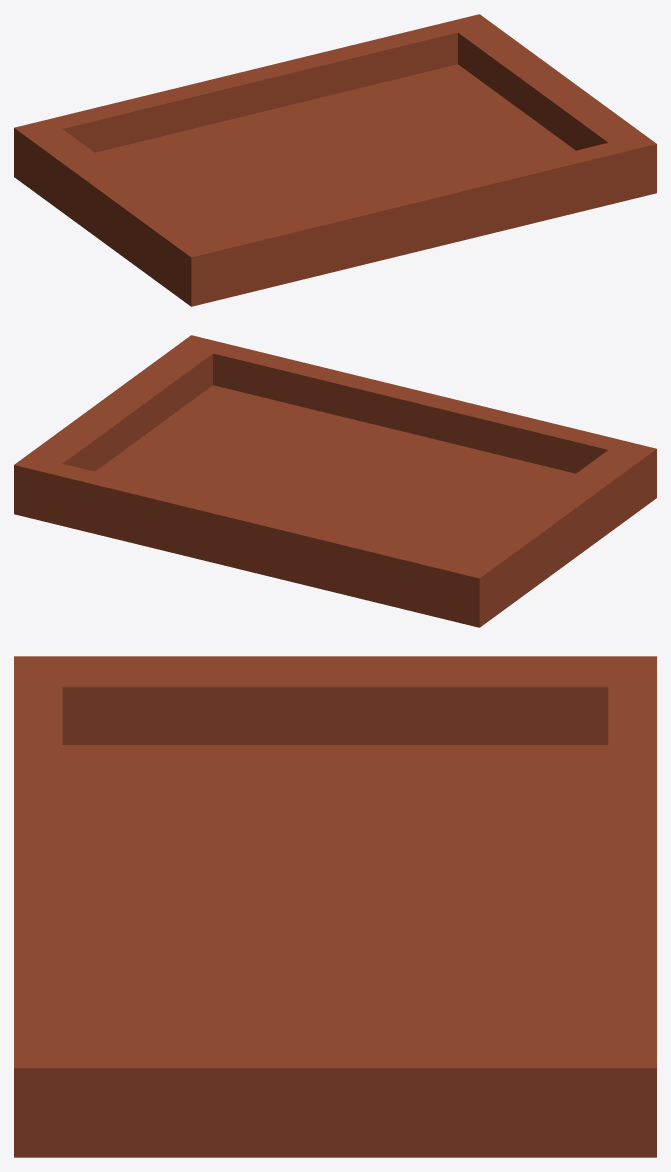
Rendered from Item_Tray.fbx.
3 renders of one model, top to bottom at view 1: azimuth 30°, elevation 25°; view 2: azimuth 150°, elevation 25°; view 3: azimuth 270°, elevation 25°, orthographic. The views are drawn at different scales.
Visible parts, largest first — view 1: Item_Tray; view 2: Item_Tray; view 3: Item_Tray.
Part boxes in pixels (left/top/right/bottom): Item_Tray: left=14, top=14, right=656, bottom=306; Item_Tray: left=14, top=335, right=656, bottom=627; Item_Tray: left=14, top=656, right=656, bottom=1157.
Size of the model in its own units: 5.74 by 0.581 by 3.79.
